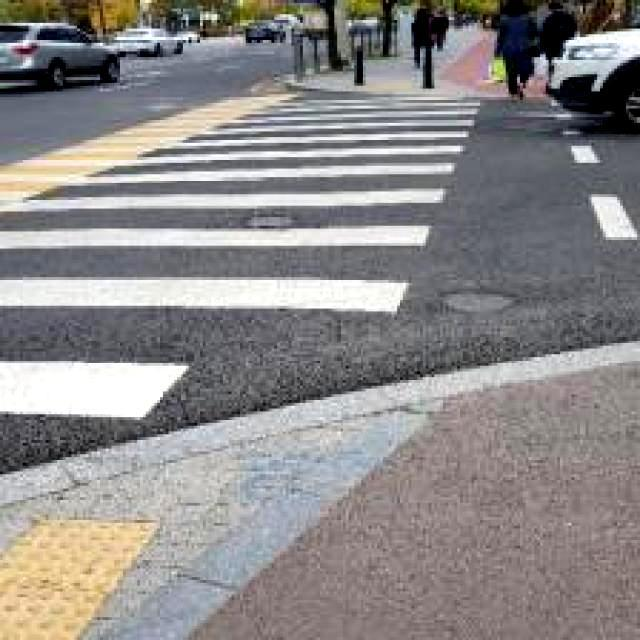crosswalk: (0, 75, 567, 639)
